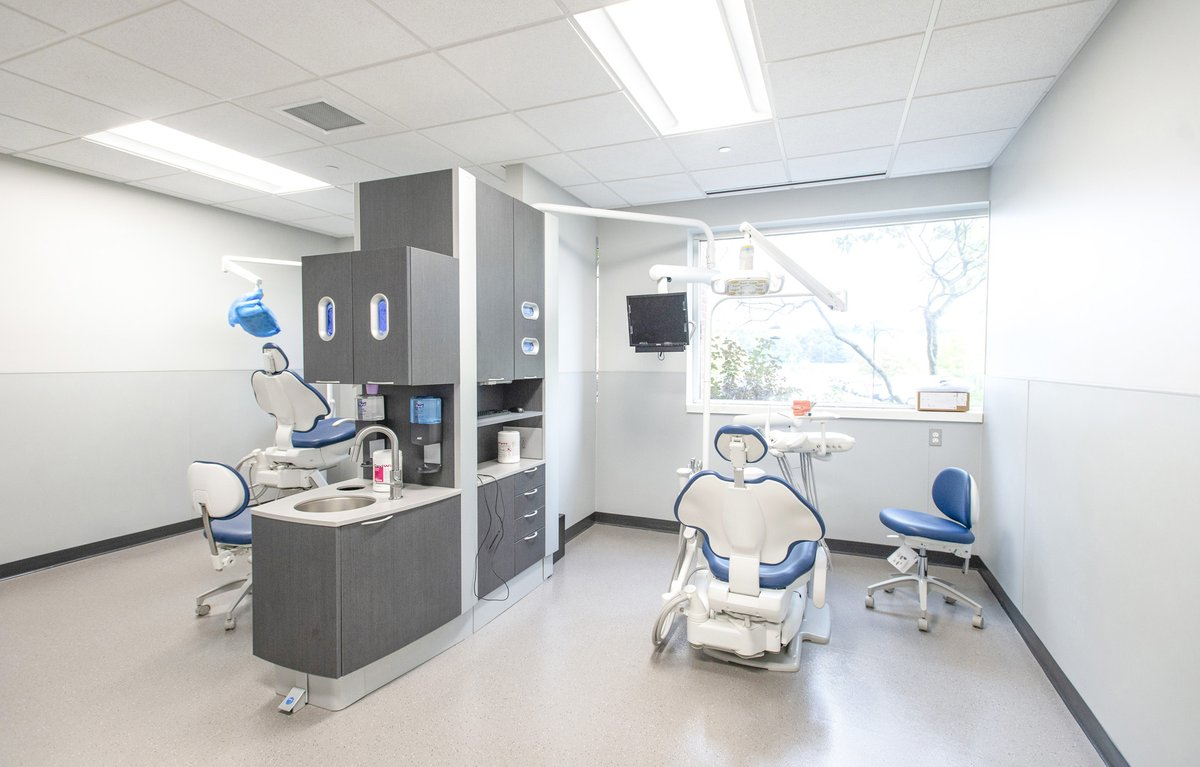bedside_monitor: (620, 286, 697, 357)
cabinet: (257, 451, 588, 699)
chair: (862, 463, 990, 637), (183, 457, 253, 637)
countertop: (266, 481, 447, 525), (471, 455, 548, 480)
dispenser: (408, 398, 451, 471)
exam_table: (659, 407, 848, 665), (228, 337, 363, 504)
faucet: (347, 418, 408, 499)
handle: (361, 511, 398, 533), (523, 533, 540, 541), (523, 510, 540, 518), (523, 488, 540, 496), (523, 467, 540, 475)
sink: (247, 477, 460, 525)
surgical_light: (230, 292, 283, 341), (722, 271, 779, 304)
